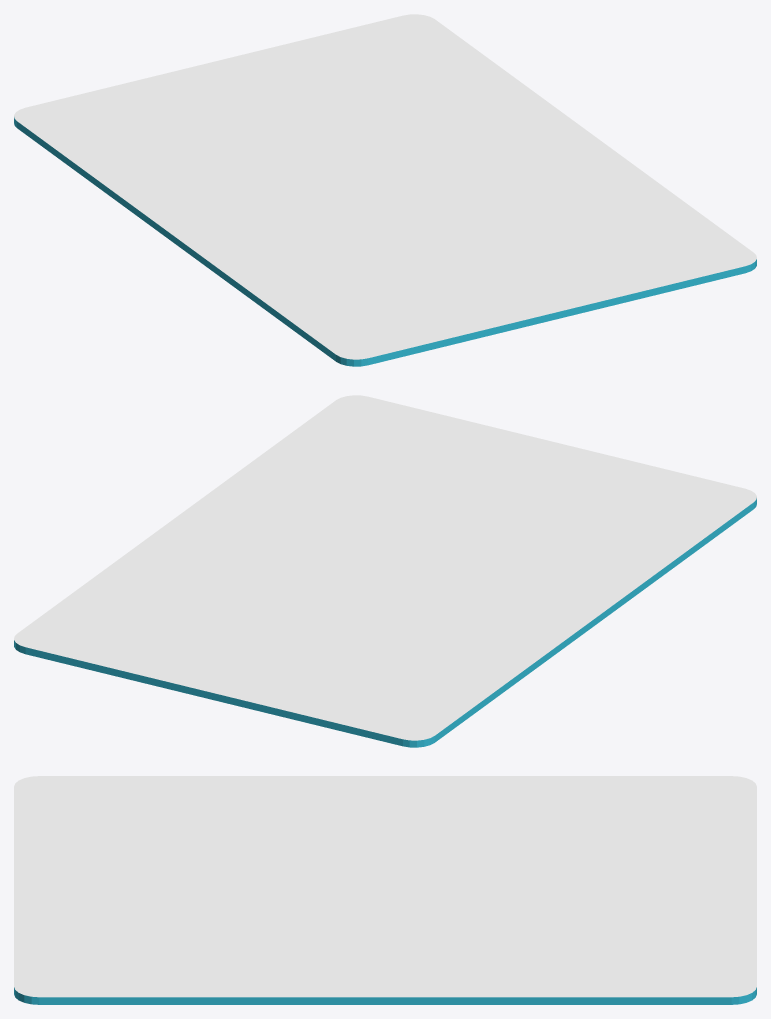
Rendered from card-no-images.gltf.
3 views of the same model, one above another, from view 1: azimuth 30°, elevation 25°; view 2: azimuth 150°, elevation 25°; view 3: azimuth 270°, elevation 25° (orthographic). The views are drawn at different scales.
Parts seen in each view (by area): view 1: CardBack, CardEdge; view 2: CardBack, CardEdge; view 3: CardBack, CardEdge.
Boxes of the visible parts, x1,y1,x2,y2 form: CardBack: [14, 14, 756, 359]; CardEdge: [14, 117, 756, 366]; CardBack: [14, 395, 756, 740]; CardEdge: [14, 498, 756, 747]; CardBack: [14, 776, 756, 997]; CardEdge: [14, 987, 756, 1004].
Size of the model in its own units: 0.62 by 0.01 by 0.88.
